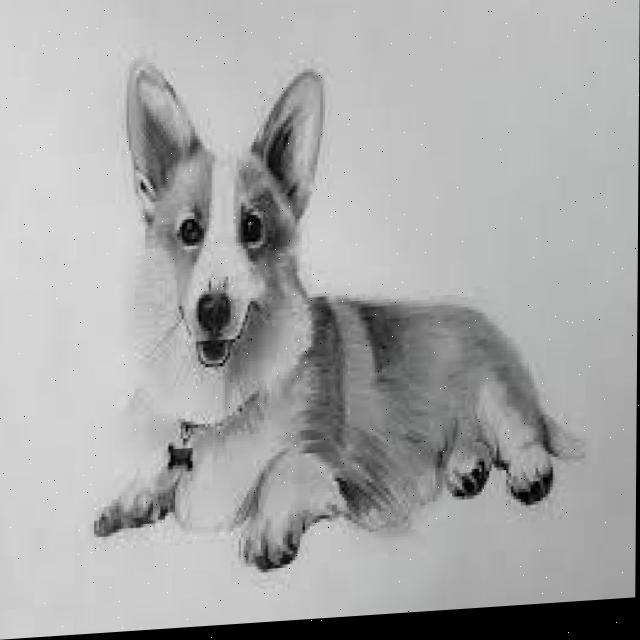CORGI: (72, 8, 594, 579)
